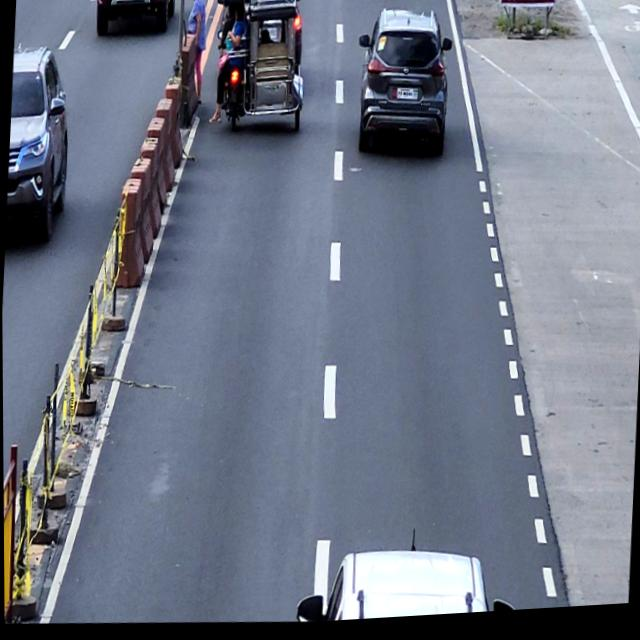Car: (295, 545, 518, 626), (352, 7, 455, 168), (4, 40, 75, 248), (224, 0, 306, 77), (92, 0, 177, 38)
License-Plate: (397, 91, 419, 106)
Tricycle: (210, 0, 311, 140)
